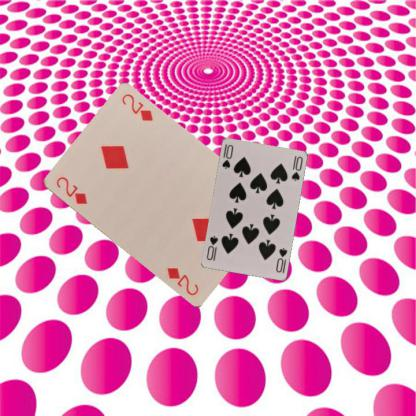10s: (219, 141, 235, 170), (274, 245, 288, 273)
2d: (53, 174, 89, 206)
